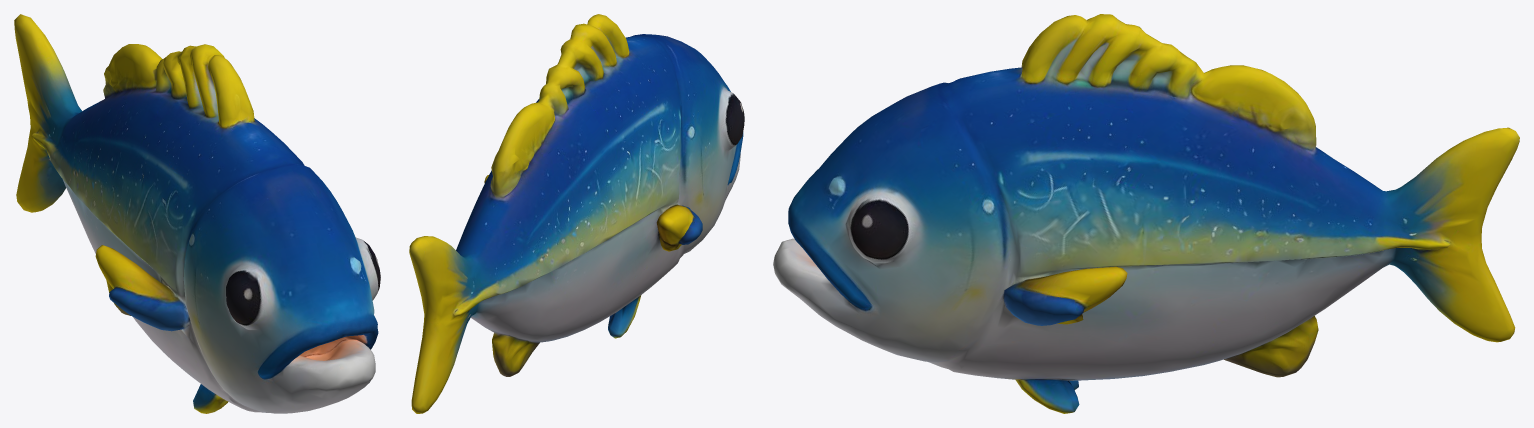
The model's file is yellowtail.glb.
The picture shows the model from 3 angles, left to right: view 1: azimuth 30°, elevation 25°; view 2: azimuth 150°, elevation 25°; view 3: azimuth 270°, elevation 25°; orthographic projection. The views are drawn at different scales.
Visible parts, largest first — view 1: tripo_node_8dd23b1c-89e7-4c3f-bd06-7b21cc278f73; view 2: tripo_node_8dd23b1c-89e7-4c3f-bd06-7b21cc278f73; view 3: tripo_node_8dd23b1c-89e7-4c3f-bd06-7b21cc278f73.
Part boxes in pixels (x1,y1,x2,y2): tripo_node_8dd23b1c-89e7-4c3f-bd06-7b21cc278f73: (14,14,380,413); tripo_node_8dd23b1c-89e7-4c3f-bd06-7b21cc278f73: (409,14,744,413); tripo_node_8dd23b1c-89e7-4c3f-bd06-7b21cc278f73: (773,14,1519,413).
Size of the model in its own units: 0.3764 by 0.5711 by 0.9999.
Materials: 1 (1 with a texture image).
